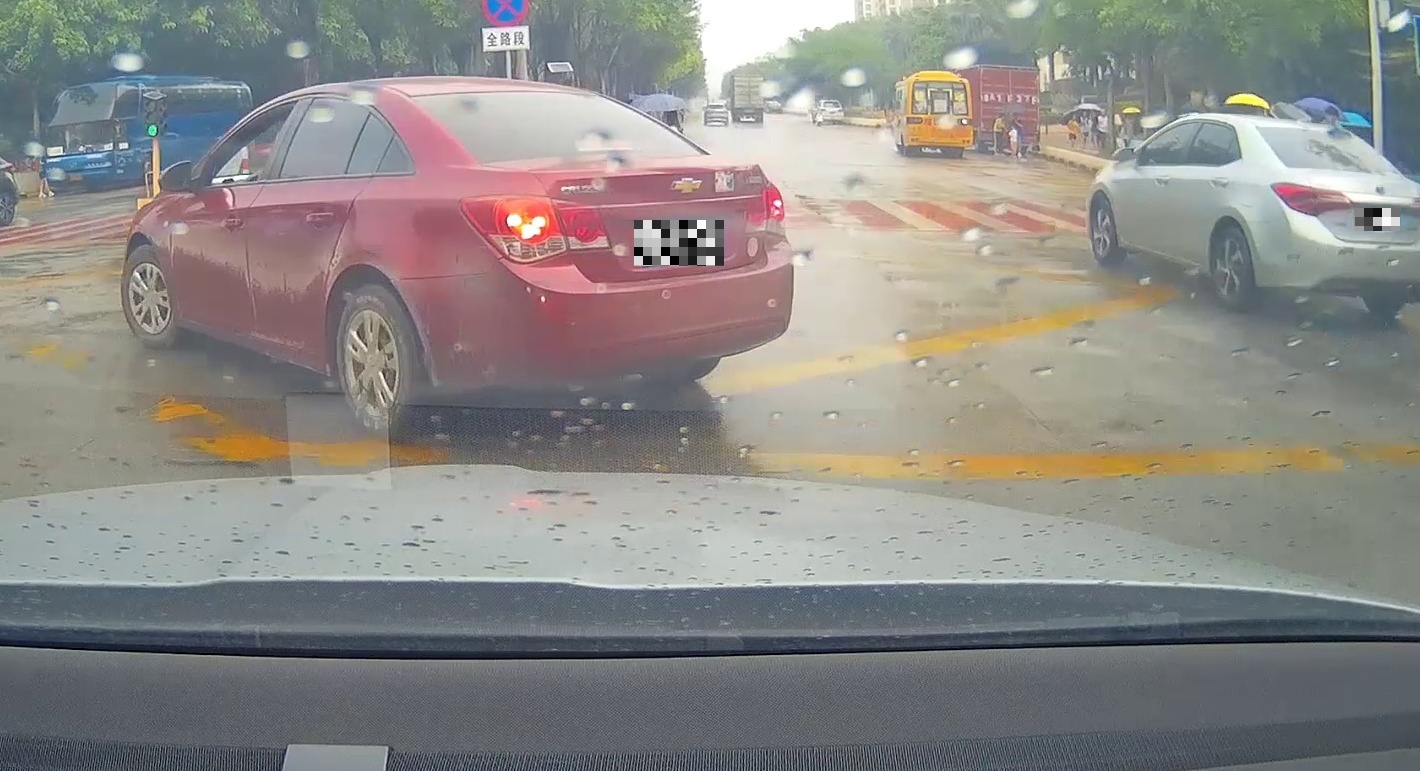L_light: (457, 191, 612, 264), (906, 117, 923, 125)
R_light: (743, 182, 787, 236), (958, 118, 973, 125)
T_light: (576, 141, 637, 151), (934, 81, 949, 85)
day-left: (396, 74, 799, 438)
day-right: (901, 70, 975, 156)
plate_1: (634, 220, 724, 266)
plate_2: (1355, 208, 1400, 231)
